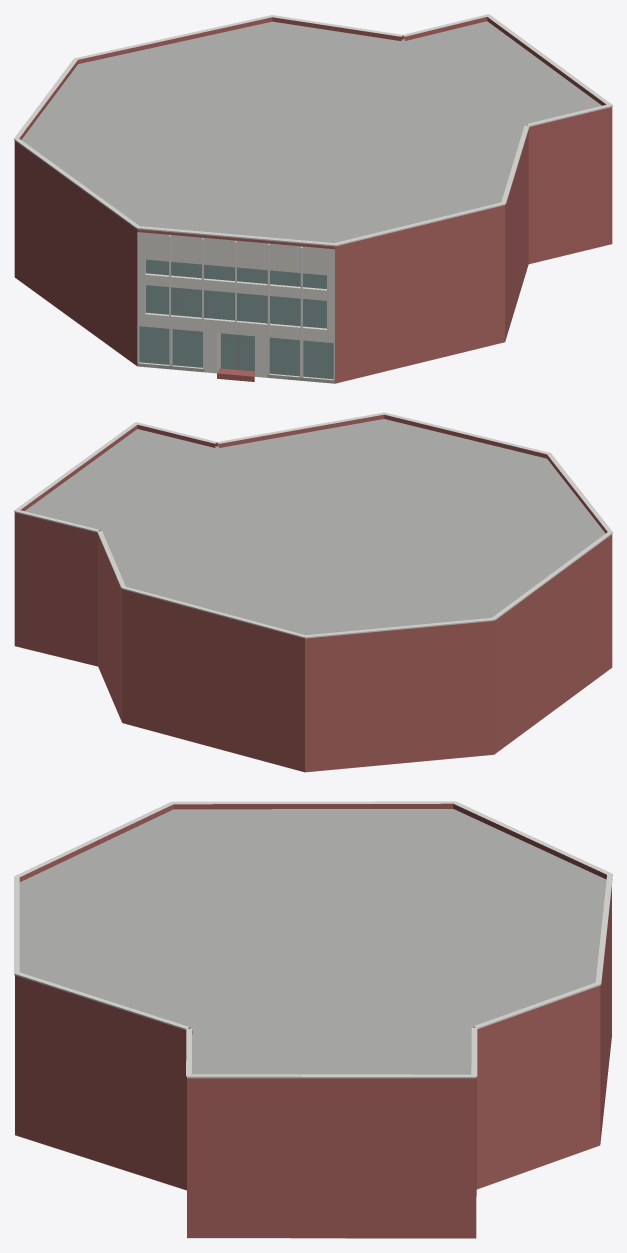
3 views of the same model, one above another, from view 1: azimuth 30°, elevation 25°; view 2: azimuth 150°, elevation 25°; view 3: azimuth 270°, elevation 25° (orthographic). The views are drawn at different scales.
Visible parts, largest first — view 1: b117908739__roof, b117908739__wall, b117908739__wall2, b117908739__glass, b117908739__trim, b117908739__parapet, b117908739__base; view 2: b117908739__roof, b117908739__wall, b117908739__trim, b117908739__parapet; view 3: b117908739__roof, b117908739__wall, b117908739__trim, b117908739__parapet.
Part boxes in pixels (<box>): b117908739__roof: <box>16,21,611,383</box>; b117908739__wall: <box>14,110,612,383</box>; b117908739__wall2: <box>137,232,334,380</box>; b117908739__glass: <box>139,259,333,379</box>; b117908739__trim: <box>14,14,612,336</box>; b117908739__parapet: <box>14,17,612,249</box>; b117908739__base: <box>137,363,334,383</box>; b117908739__roof: <box>17,419,611,772</box>; b117908739__wall: <box>14,515,612,772</box>; b117908739__trim: <box>14,412,612,638</box>; b117908739__parapet: <box>14,414,612,641</box>; b117908739__roof: <box>15,809,606,1238</box>; b117908739__wall: <box>15,886,611,1238</box>; b117908739__trim: <box>14,801,612,1078</box>; b117908739__parapet: <box>15,803,606,1081</box>.
Size of the model in its own units: 40.74 by 11.55 by 37.42.
Materials: 10 (1 with a texture image).
